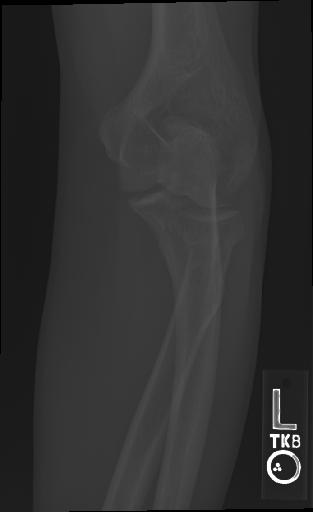elbow positive: (181, 145, 262, 222), (171, 227, 259, 262)
